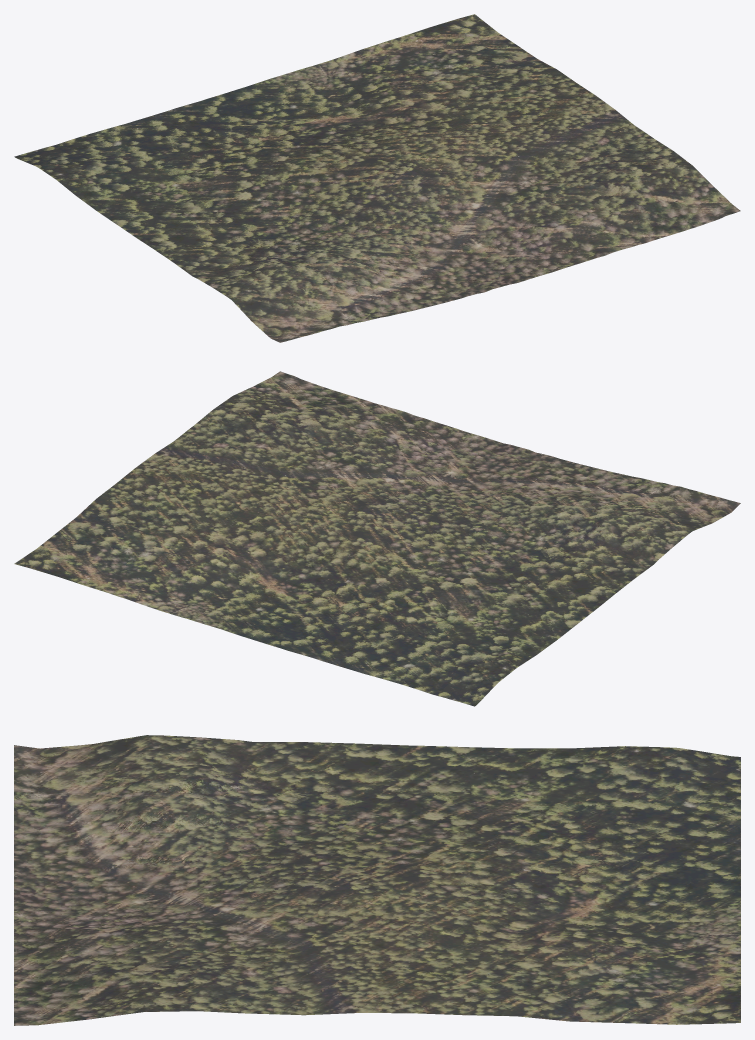
Rendered from CM_Terrain_24489844_6822660.fbx.
The picture shows the model from 3 angles, top to bottom: view 1: azimuth 30°, elevation 25°; view 2: azimuth 150°, elevation 25°; view 3: azimuth 270°, elevation 25°; orthographic projection. The views are drawn at different scales.
Visible parts, largest first — view 1: CM_Terrain_24489844_6822660_LOD0; view 2: CM_Terrain_24489844_6822660_LOD0; view 3: CM_Terrain_24489844_6822660_LOD0.
Boxes of the visible parts, x1,y1,x2,y2 form: CM_Terrain_24489844_6822660_LOD0: (14,14,740,342); CM_Terrain_24489844_6822660_LOD0: (14,371,740,706); CM_Terrain_24489844_6822660_LOD0: (14,735,740,1025).
Size of what is drawn, in the model's own units: 205 by 16.49 by 205.
